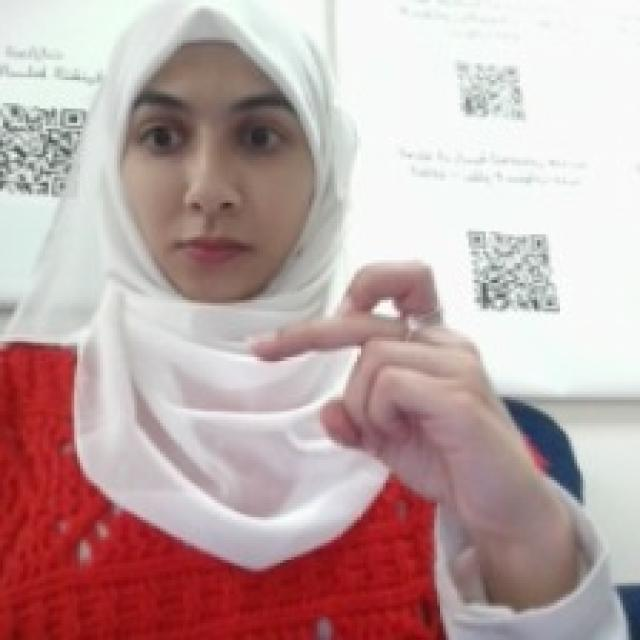sunday: (240, 249, 506, 497)
